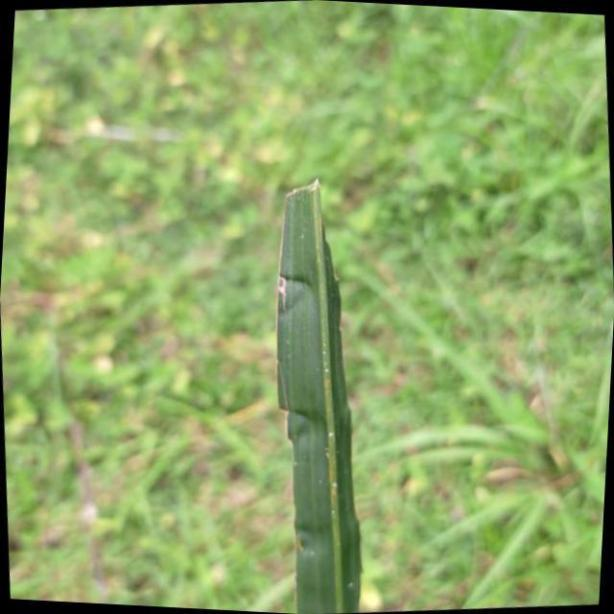Boron: (275, 174, 365, 614)
